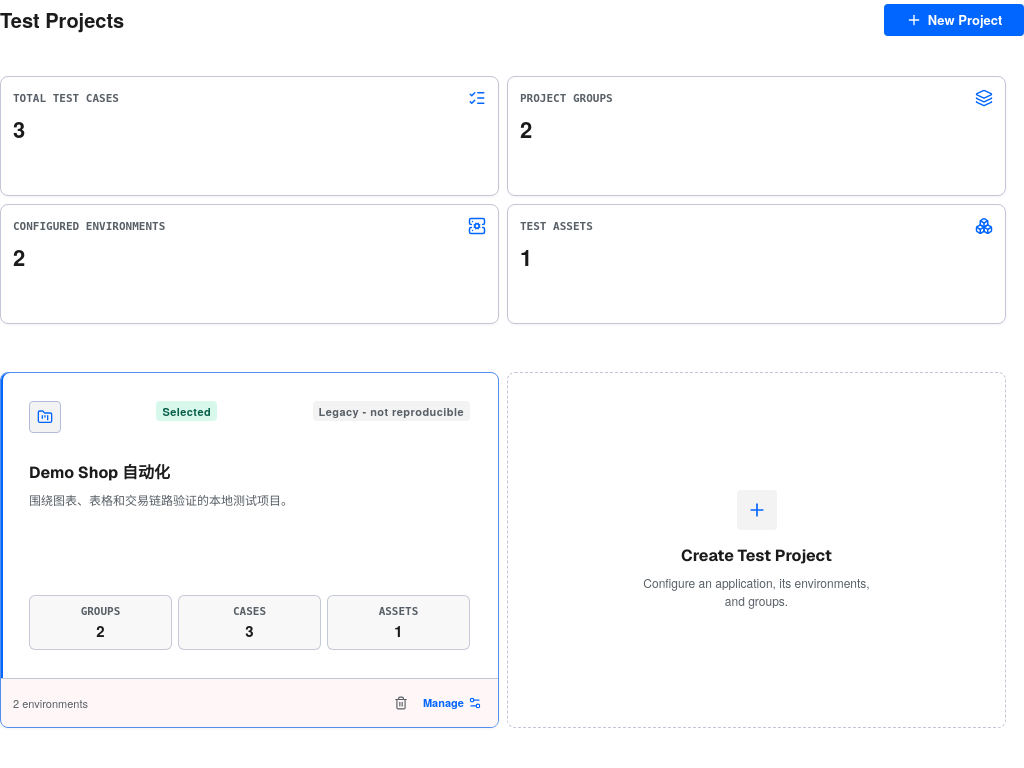
Test: ProjectManagementPage › translates project forms and environment controls to English
Click the button "Manage". click: (452, 703)
box: [419,691,486,715]
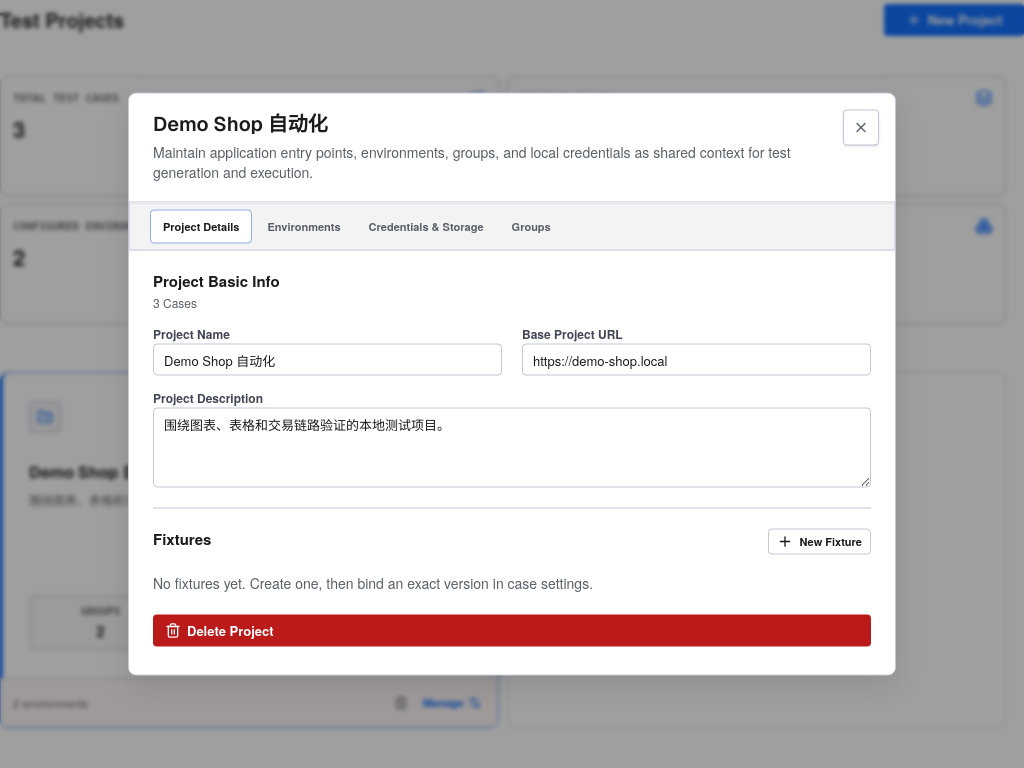
Expected: the text "Project Name" is shown, [153,324,230,342]
Expected: the text "Project Description" is shown, [153,388,263,406]
Press the mouse on the tab "Credentials & Storage" at (426, 226), box [356,210,497,244]
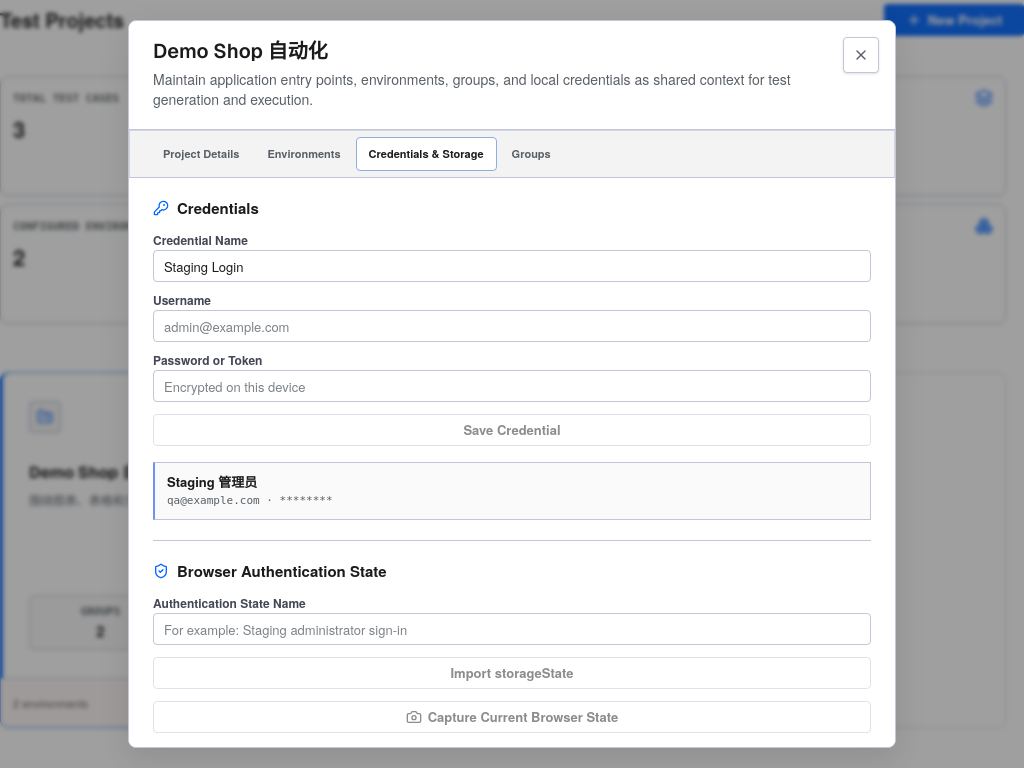
Expected: the text "Credential Name" is shown, [153,231,248,249]
Expected: the button "Save Credential" is shown, [153,414,871,446]
Press the mouse on the tab "Environments" at (304, 154), box [254,137,354,171]
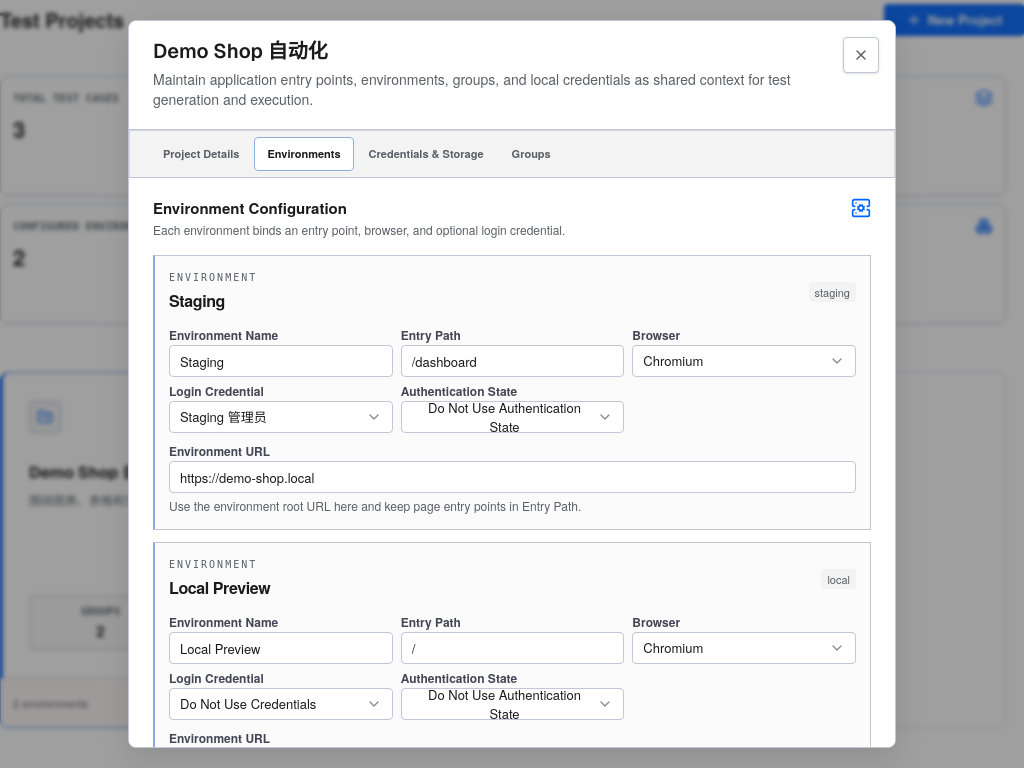
Expected: the 1st text "Environment Name" is shown, [169,326,278,344]
Expected: the text "Do Not Use Credentials" is shown, [180,694,316,714]
